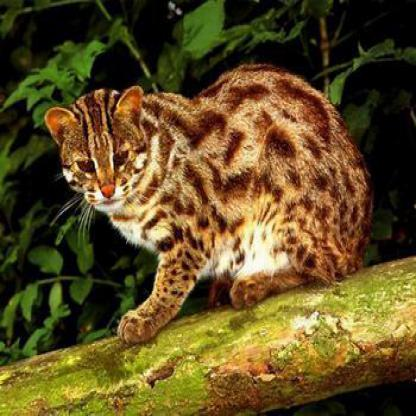cat: (45, 66, 371, 342)
